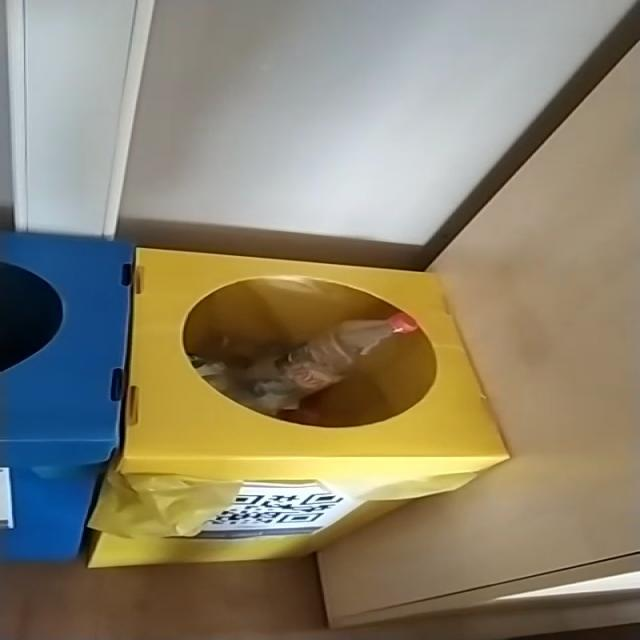plastic: (245, 314, 419, 415)
